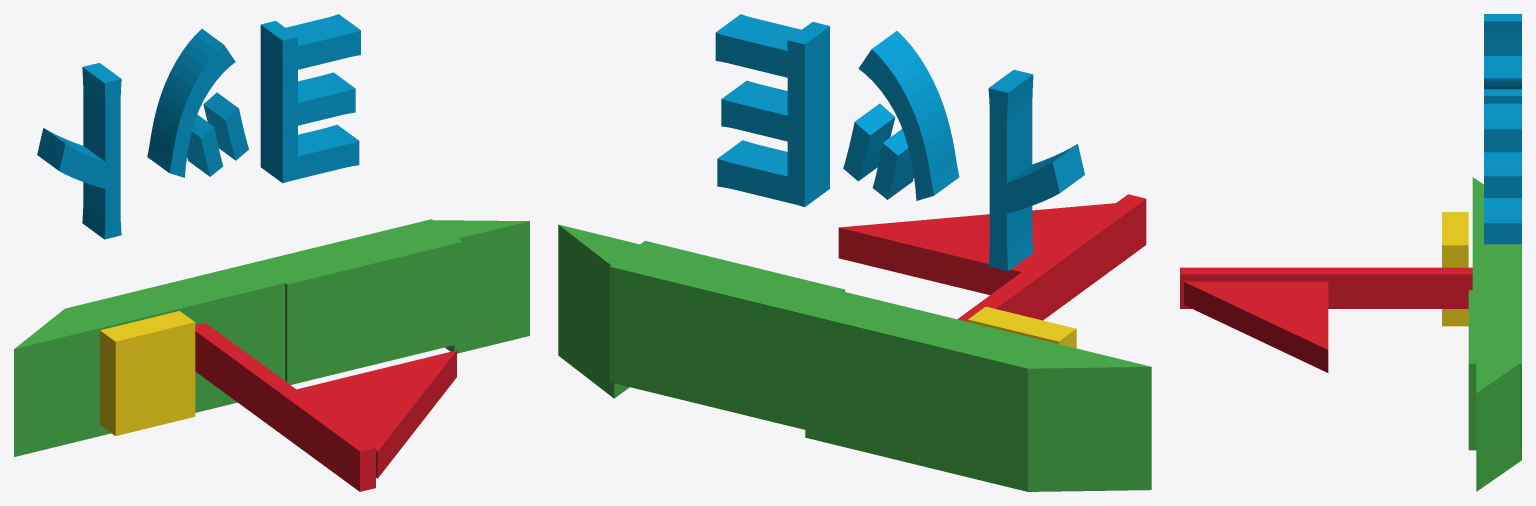
The model's file is tinker.obj.
3 views of the same model, side by side, from view 1: azimuth 30°, elevation 25°; view 2: azimuth 150°, elevation 25°; view 3: azimuth 270°, elevation 25° (orthographic). The views are drawn at different scales.
Parts seen in each view (by area): view 1: group_0_4634441, group_0_40919, group_0_15277357, group_0_16768282; view 2: group_0_4634441, group_0_40919, group_0_15277357, group_0_16768282; view 3: group_0_15277357, group_0_4634441, group_0_40919, group_0_16768282.
Boxes of the visible parts, x1,y1,x2,y2 form: group_0_4634441: [14, 219, 529, 456]; group_0_40919: [37, 14, 360, 239]; group_0_15277357: [195, 322, 456, 491]; group_0_16768282: [100, 311, 195, 435]; group_0_4634441: [558, 224, 1151, 491]; group_0_40919: [715, 14, 1084, 271]; group_0_15277357: [838, 194, 1146, 321]; group_0_16768282: [968, 306, 1076, 348]; group_0_15277357: [1180, 267, 1472, 372]; group_0_4634441: [1468, 177, 1521, 491]; group_0_40919: [1484, 14, 1521, 244]; group_0_16768282: [1442, 212, 1468, 326].
Size of the model in its own units: 30 by 20 by 20.
